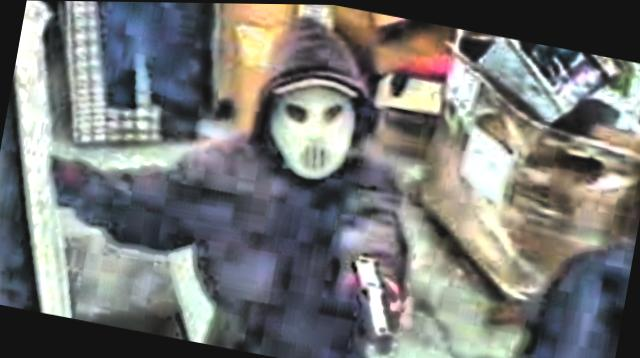pistol: (320, 243, 407, 357)
